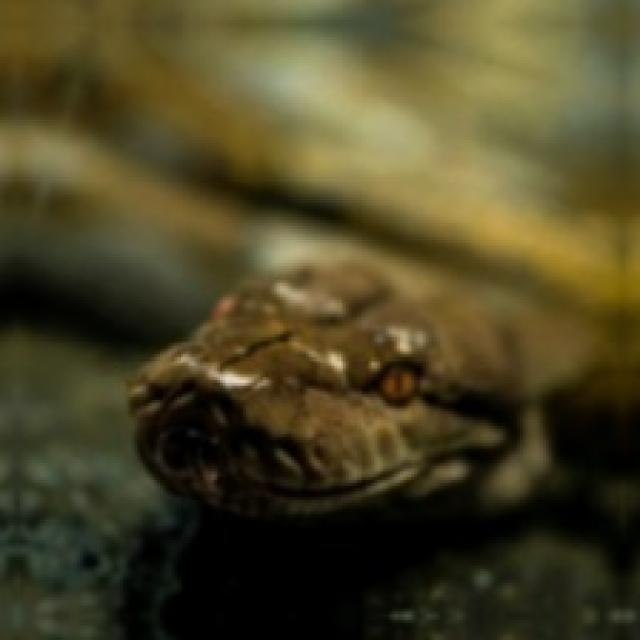reticulated python: (129, 254, 586, 520)
